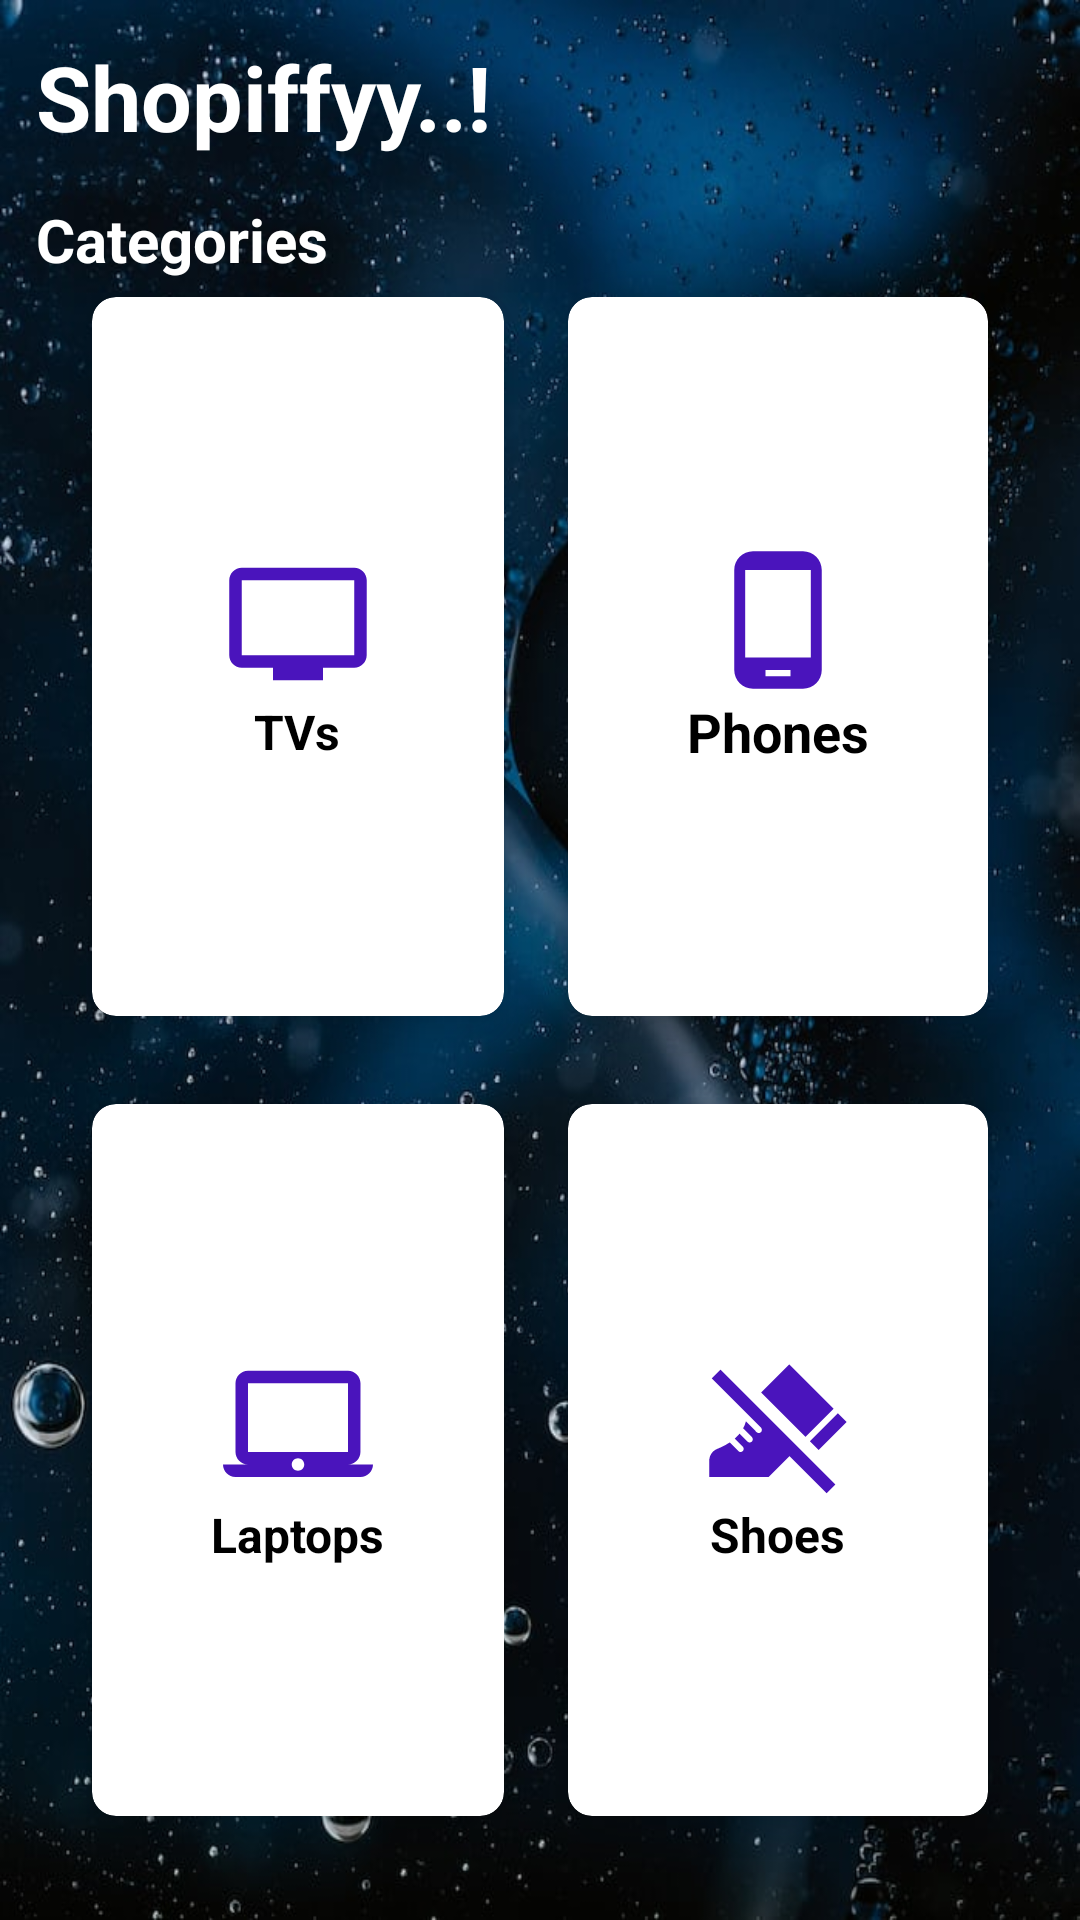

Point at icon controls on the screen. Image size 1080 × 1920, points as point (x, y).
do not step: point (778, 1428)
